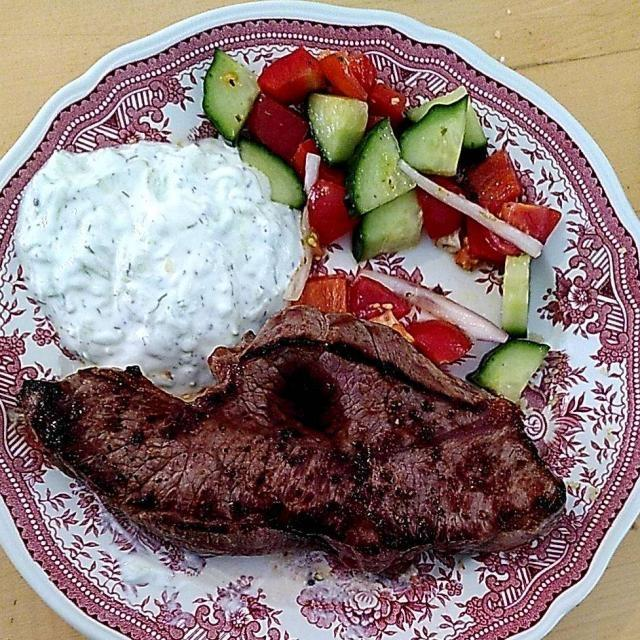salad: (199, 34, 550, 402)
tzatziki: (24, 141, 306, 378)
